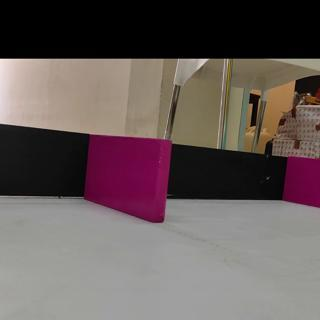xparking: (89, 139, 165, 218), (287, 158, 320, 201)
